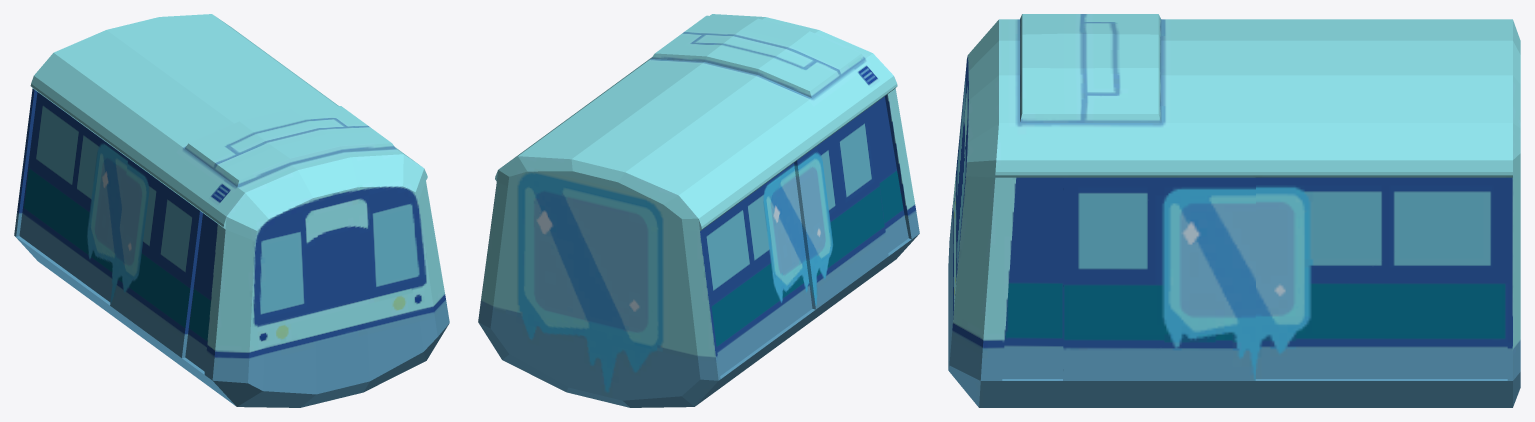
File: MovingPlatformMRT_GreenFreeze.fbx
3 renders of one model, left to right at view 1: azimuth 30°, elevation 25°; view 2: azimuth 150°, elevation 25°; view 3: azimuth 270°, elevation 25°, orthographic. The views are drawn at different scales.
Parts seen in each view (by area): view 1: Cube.016; view 2: Cube.016; view 3: Cube.016.
Part boxes in pixels (x1=…): Cube.016: x1=14, y1=14, x2=449, y2=407; Cube.016: x1=478, y1=14, x2=919, y2=407; Cube.016: x1=948, y1=14, x2=1520, y2=407.
Size of the model in its own units: 276 by 263 by 430.
